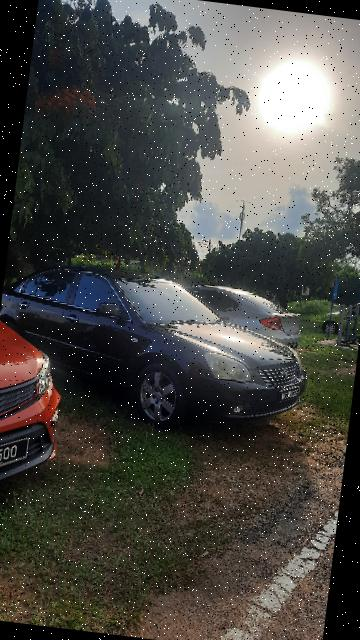License_Plate: (1, 432, 33, 474), (276, 383, 312, 409)
car: (1, 255, 321, 450), (1, 295, 90, 520)
